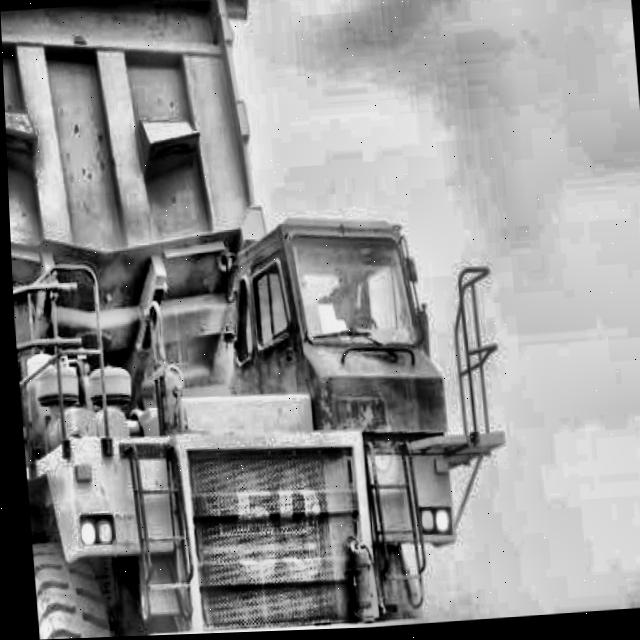dump_truck: (0, 0, 544, 640)
